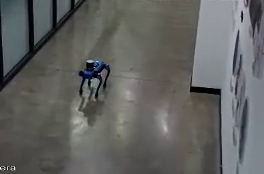robot dog: (76, 56, 110, 104)
